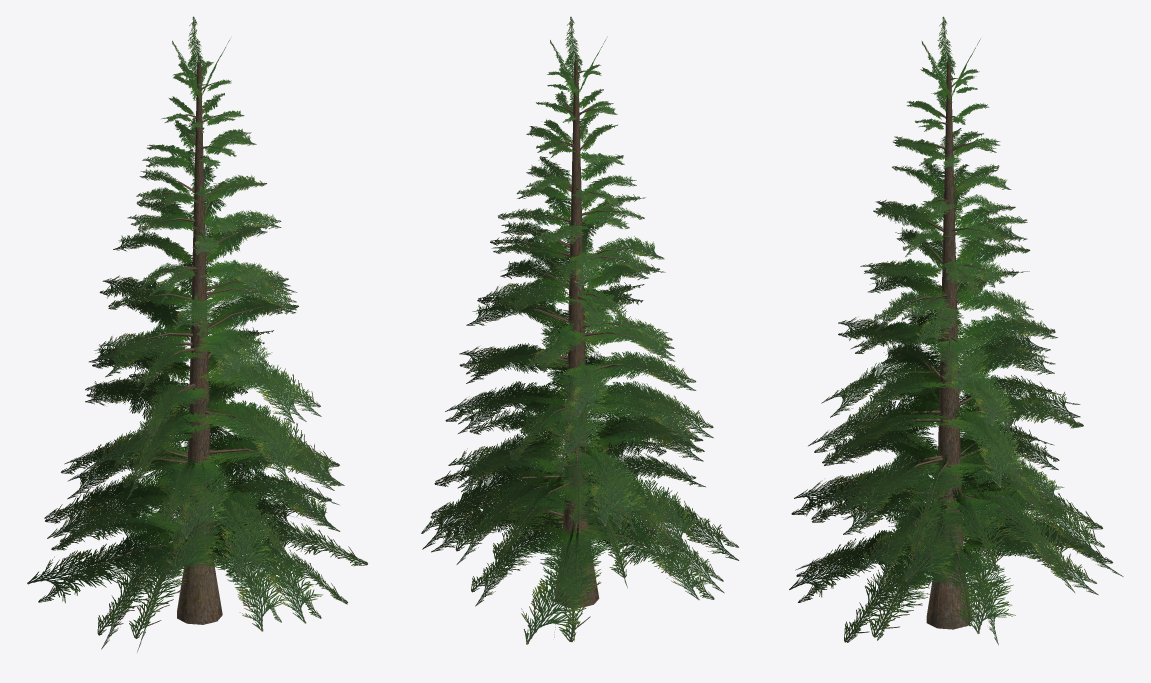
Rendered from tree_fir.glb.
3 views of the same model, side by side, from view 1: azimuth 30°, elevation 25°; view 2: azimuth 150°, elevation 25°; view 3: azimuth 270°, elevation 25° (orthographic). The views are drawn at different scales.
Visible parts, largest first — view 1: plant; view 2: plant; view 3: plant.
Boxes of the visible parts, box(x1,y1,x2,y2) form: plant: box(27, 16, 367, 652); plant: box(421, 16, 739, 644); plant: box(789, 16, 1123, 645).
Size of the model in its own units: 3.9 by 6.96 by 3.83.
Materials: 2 (2 with a texture image).
